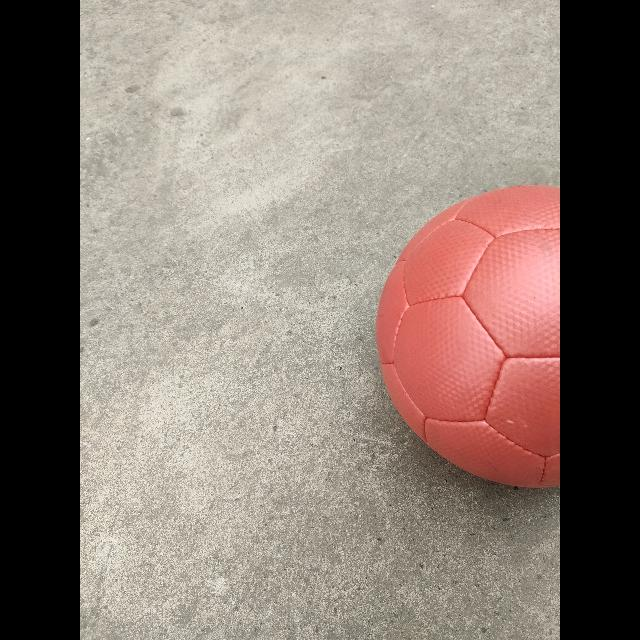R: (376, 185, 560, 487)
